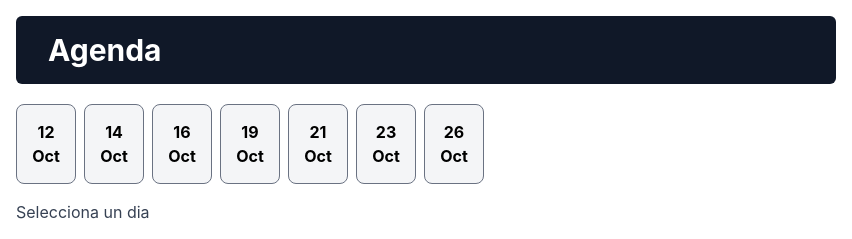
Test: NutricionistaAgenda › hace desaparecer el mensaje inicial al hacer clic en un día del calendario
The image size is (852, 239).
Click the button "12 Oct".
click(46, 144)  # box [16, 104, 76, 184]
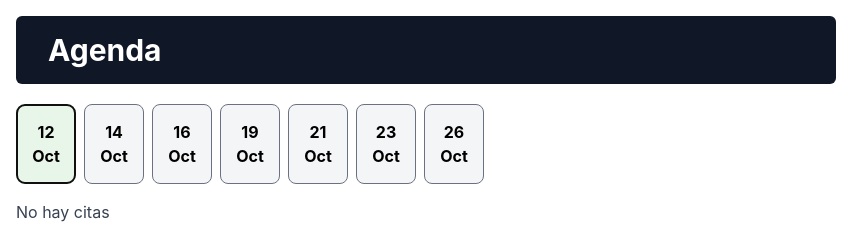
Now the text "Selecciona un dia" is gone
